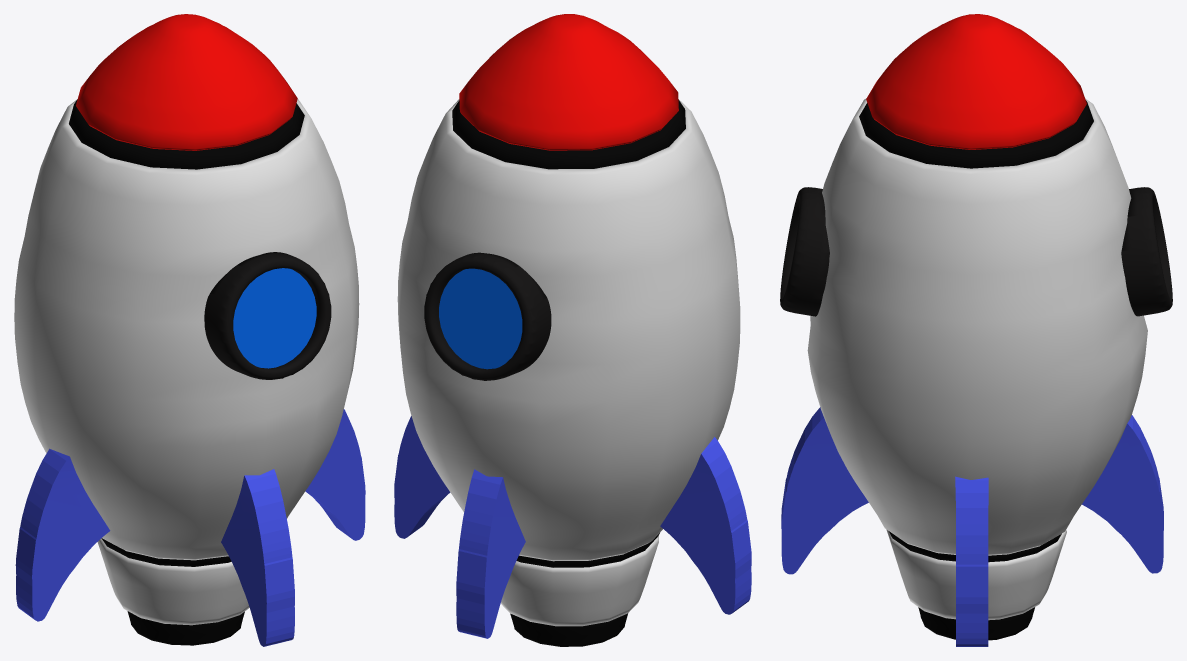
The model's file is Rocket5.fbx.
3 renders of one model, left to right at view 1: azimuth 30°, elevation 25°; view 2: azimuth 150°, elevation 25°; view 3: azimuth 270°, elevation 25°, orthographic.
Visible parts, largest first — view 1: Rocket4; view 2: Rocket4; view 3: Rocket4.
Part boxes in pixels (<box>): Rocket4: <box>14,14,365,646</box>; Rocket4: <box>394,14,751,646</box>; Rocket4: <box>780,14,1172,646</box>.
Bounding box in the file's own units: 320 × 545 × 325.
